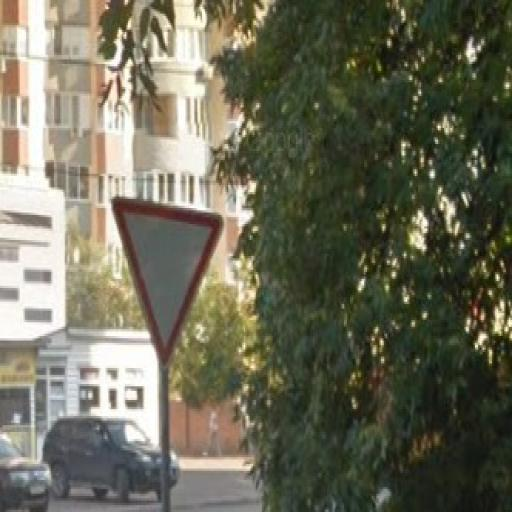traffic_sign: (109, 195, 226, 376)
